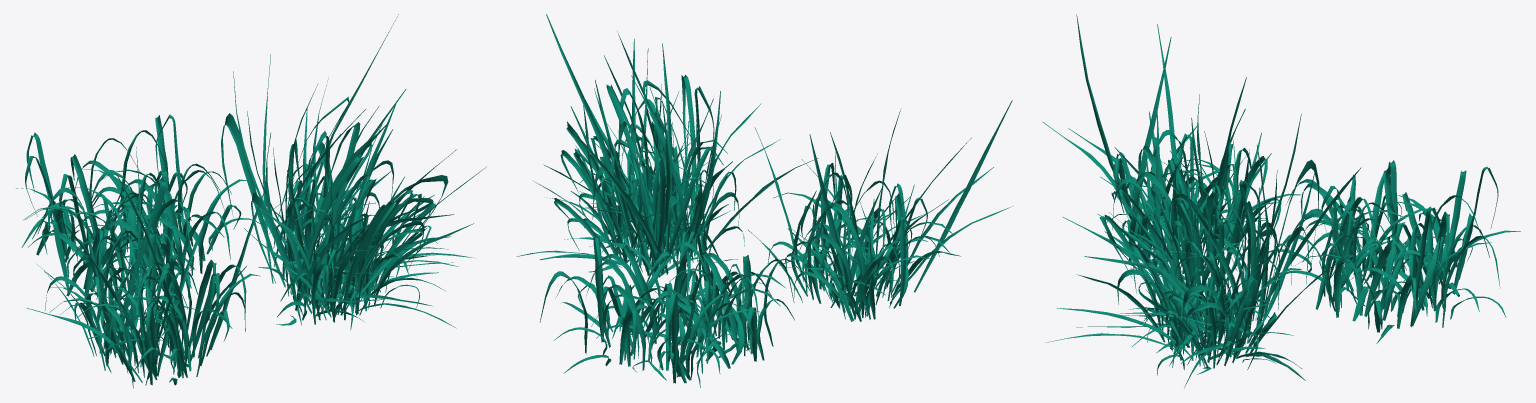
Rendered from cao1.obj.
The picture shows the model from 3 angles, left to right: view 1: azimuth 30°, elevation 25°; view 2: azimuth 150°, elevation 25°; view 3: azimuth 270°, elevation 25°; orthographic projection. The views are drawn at different scales.
Parts seen in each view (by area): view 1: AM126_098_v2; view 2: AM126_098_v2; view 3: AM126_098_v2.
Boxes of the visible parts, x1,y1,x2,y2 form: AM126_098_v2: (16,14,486,388); AM126_098_v2: (516,14,1012,387); AM126_098_v2: (1042,14,1520,388).
Size of the model in its own units: 128 by 71.68 by 121.
